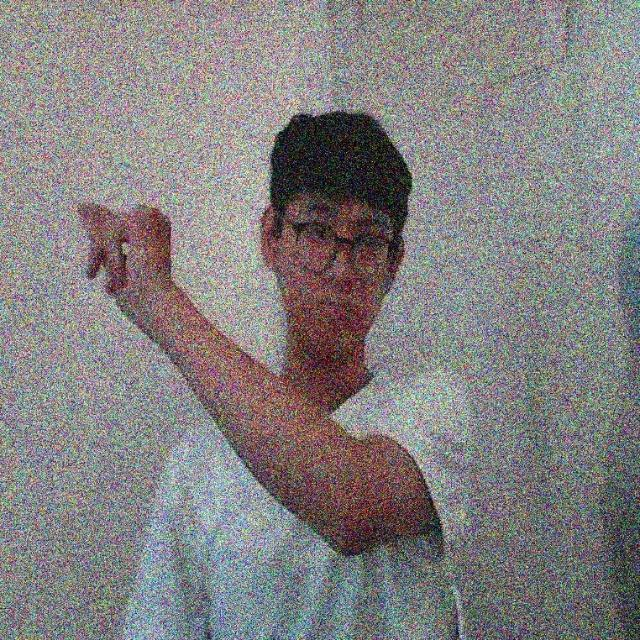R: (64, 184, 190, 326)
